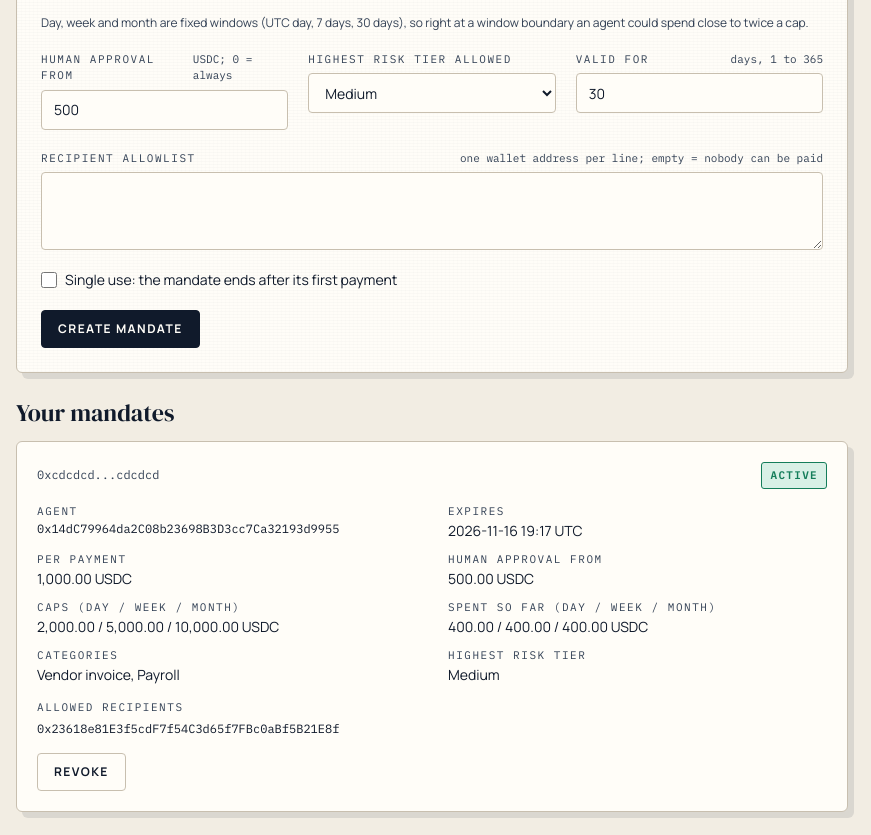
Test: Founder: mandates › revokes only after a second confirming click, then refreshes the list
(page scrolled)
Click the button "Revoke" at x=81, y=772, box [37,752,126,790]
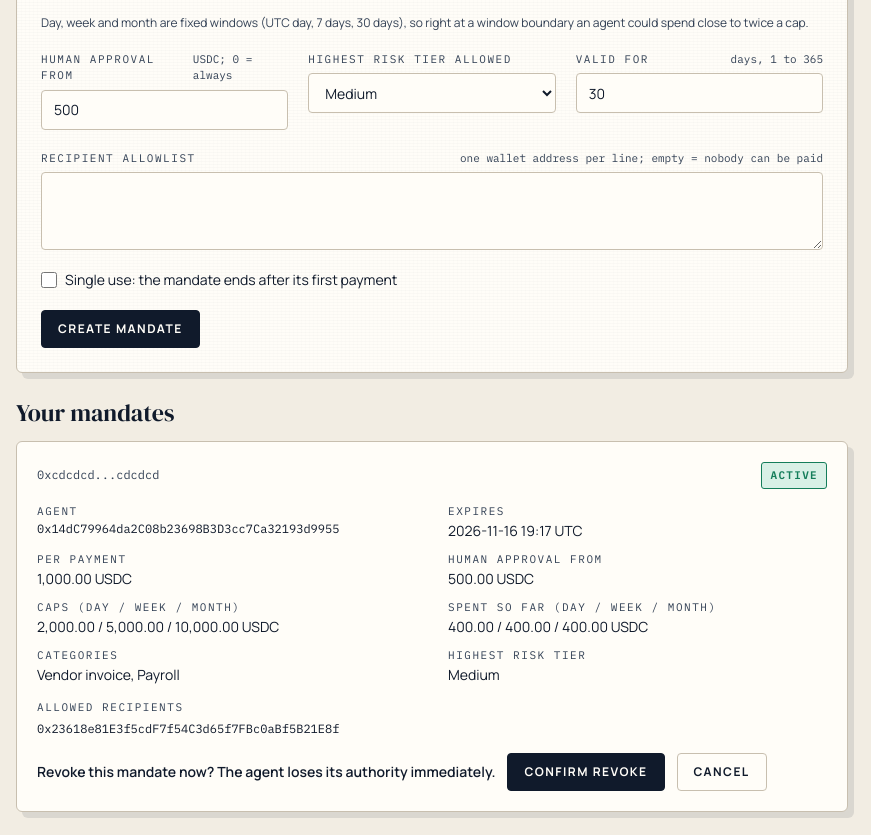
Expected: the text "The agent loses its authority immediately" is shown, [37,762,496,780]
Click the button "Cancel" at x=722, y=772, box [676,752,767,790]
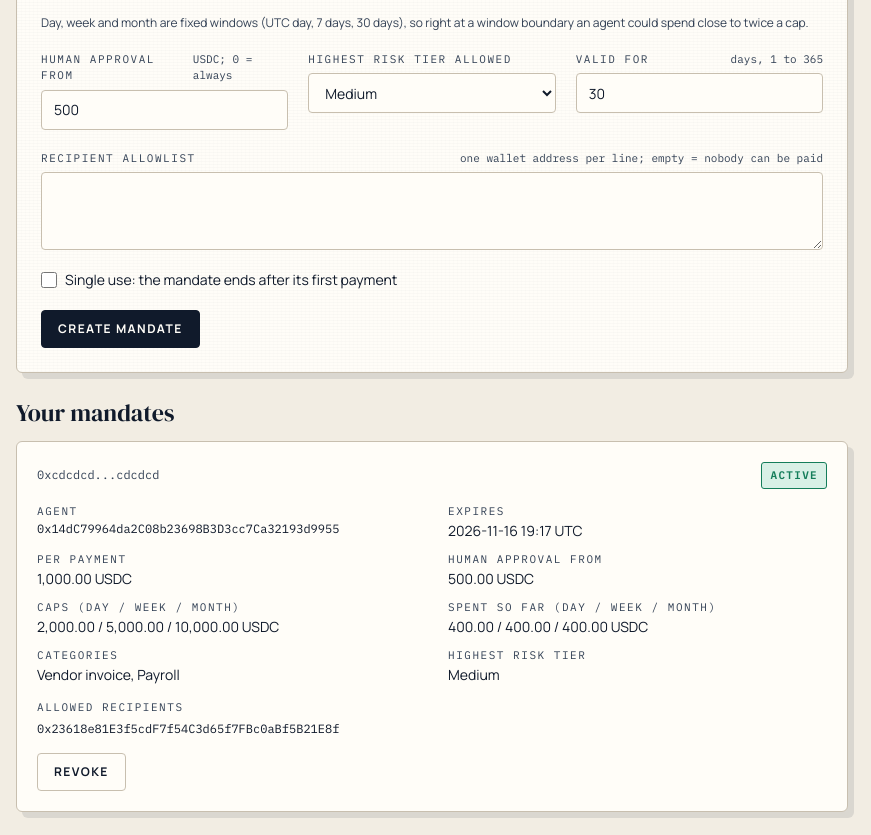
Expected: the text "loses its authority" is gone
Click the button "Revoke" at x=81, y=772, box [37,752,126,790]
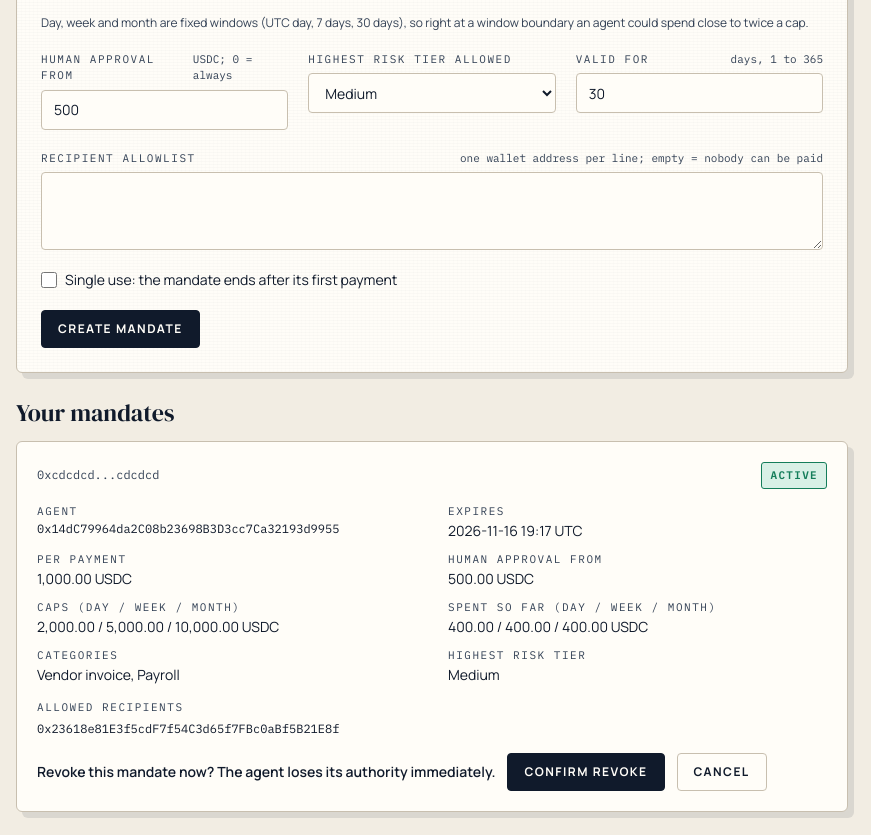
Click the button "Confirm revoke" at x=586, y=772, box [508,752,664,790]
(page scrolled)
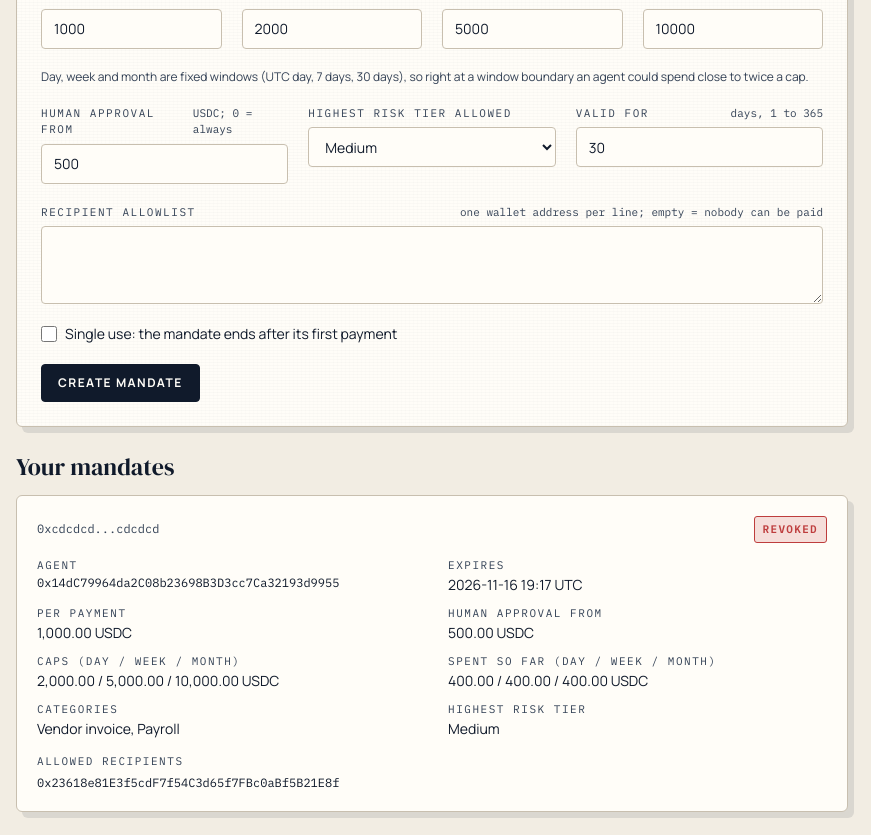
Expected: the text "REVOKED" is shown, [754,516,827,542]
